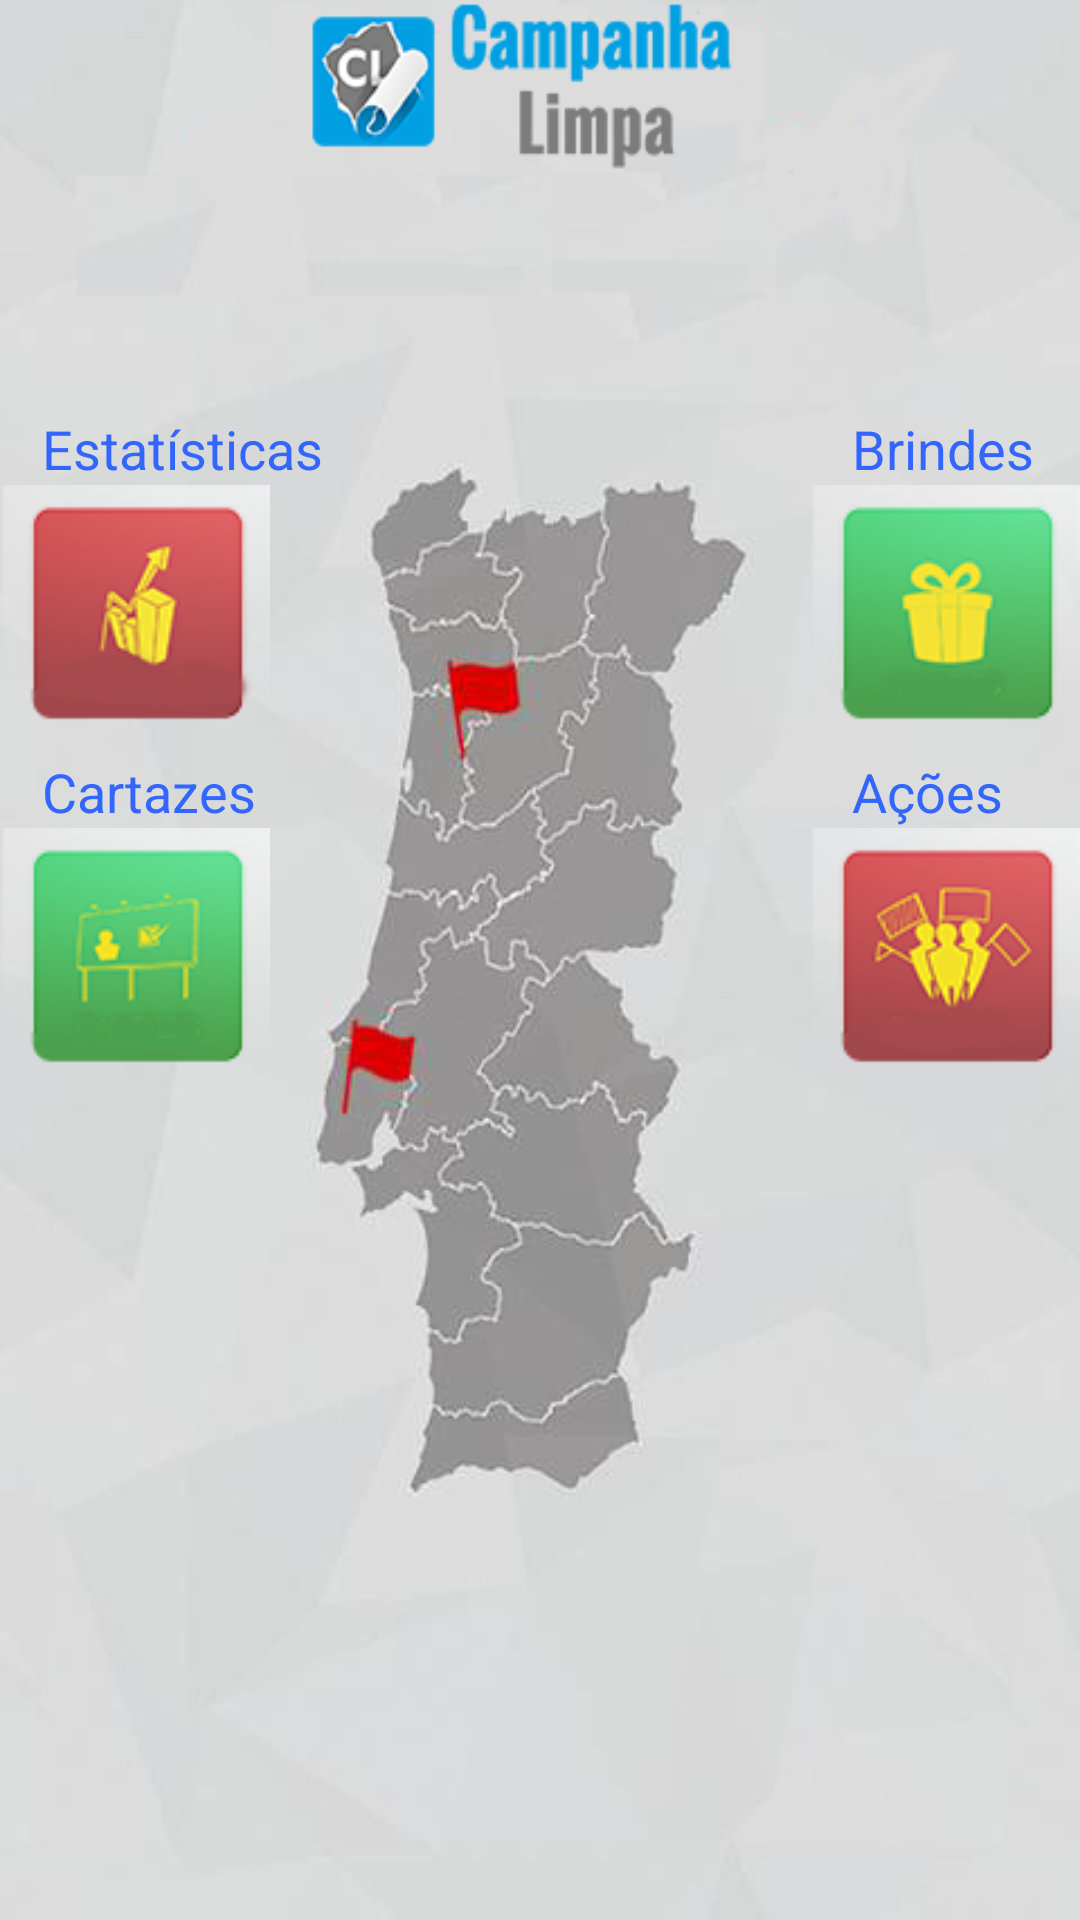

Screen size 1080×1920. Icon name, then its box in pixels as (x1, y1, x2, y2):
comicio: (841, 828, 1080, 1062)
